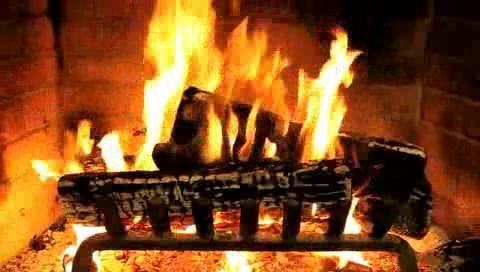fire: (151, 11, 248, 85), (306, 32, 356, 143), (139, 89, 177, 138)
